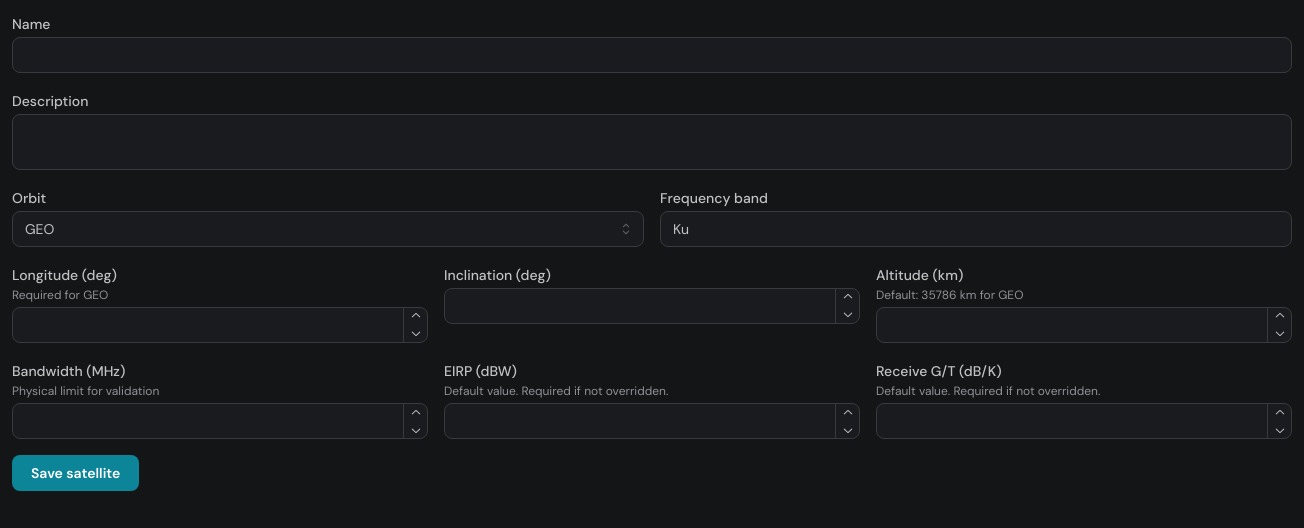
SatelliteForm › validates empty name on submit
Click the button "Save satellite": (76, 473) [12,455,139,491]
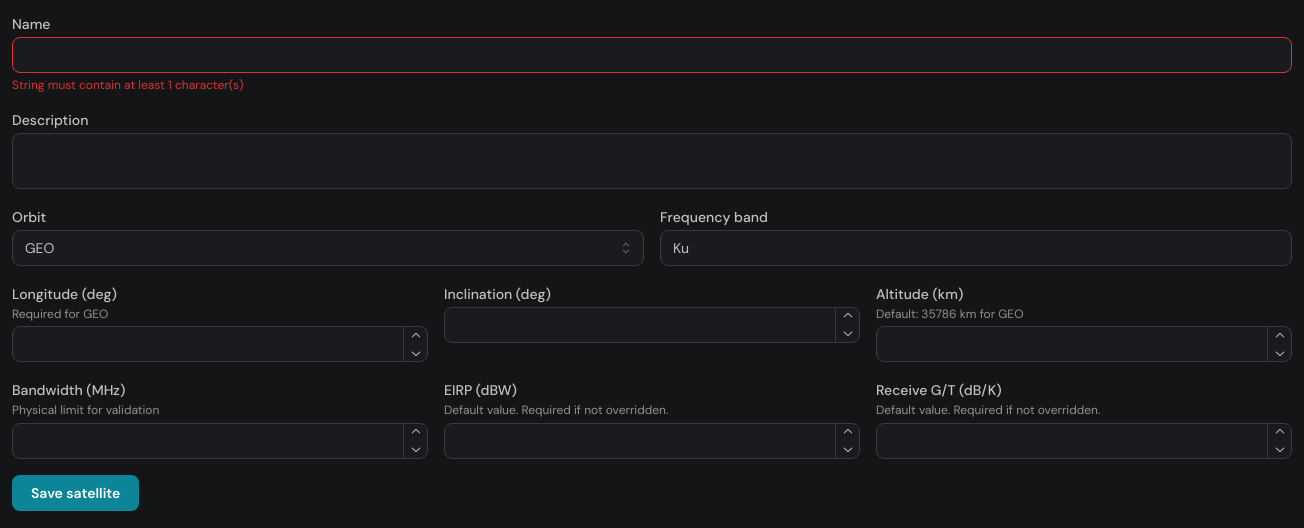
Expected: the text "String must contain at least 1 character(s)" is shown, [12,77,243,93]
